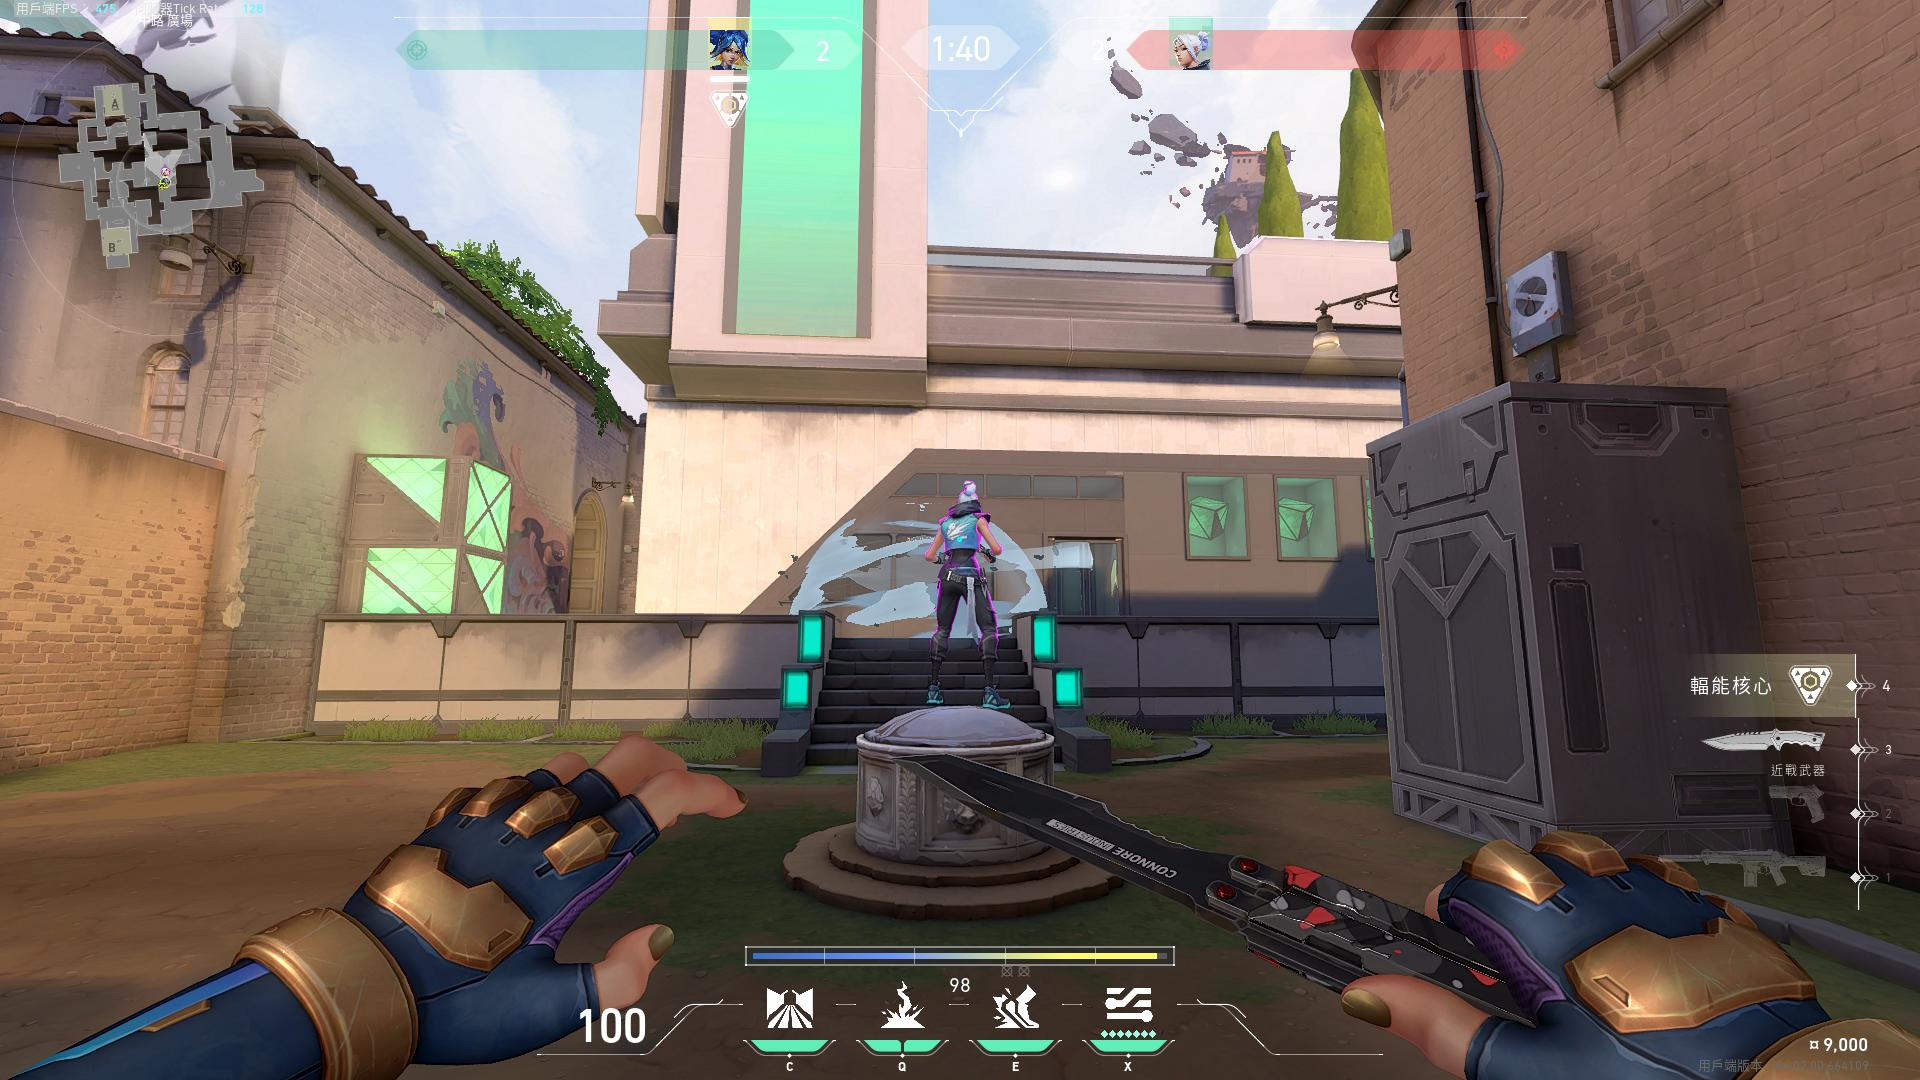enemyBody: (948, 513, 982, 568)
enemyHead: (961, 483, 975, 509)
